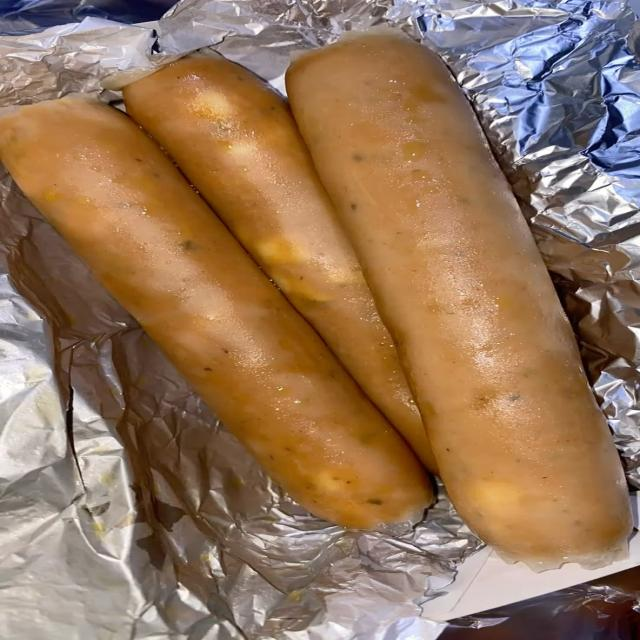sausage: (0, 97, 431, 528), (287, 31, 630, 569), (124, 56, 434, 470)
